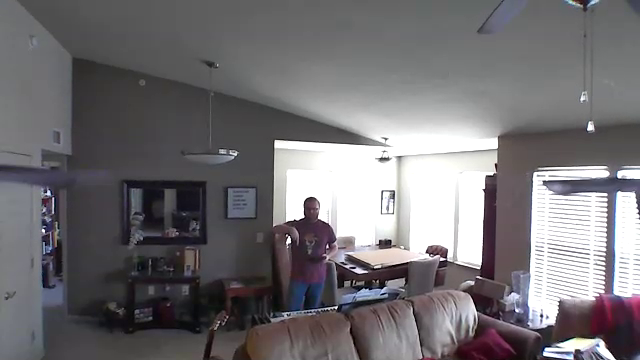down: (287, 222, 305, 249)
